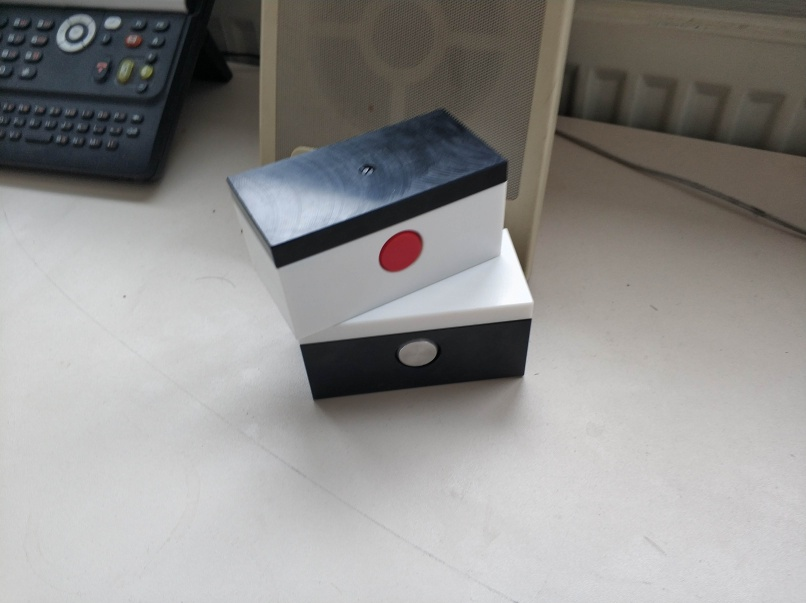black+white+red: (220, 108, 506, 343)
white+black+silver: (296, 224, 537, 408)
